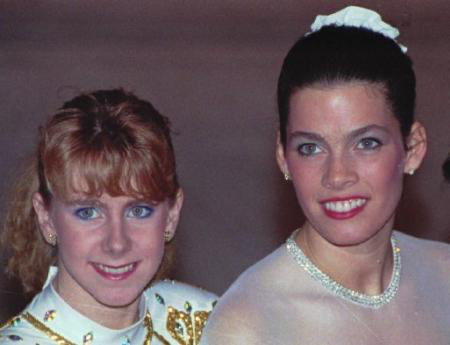Face: (281, 92, 411, 246), (47, 173, 171, 306)
